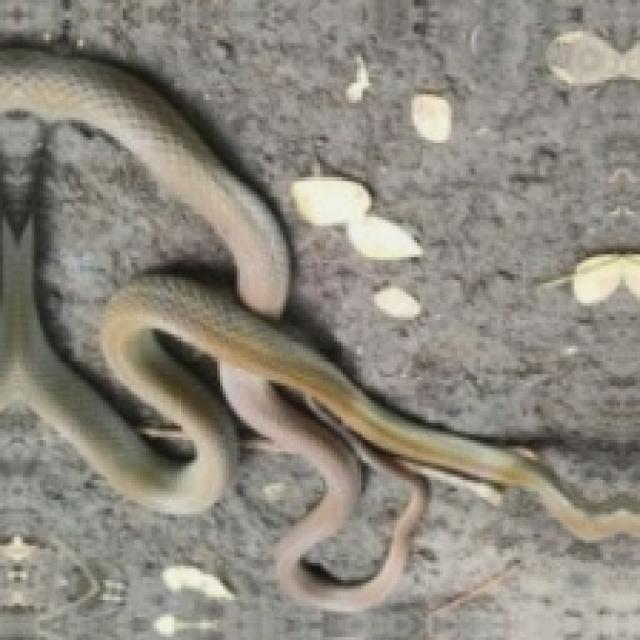reddish rat snake: (0, 49, 637, 609)
